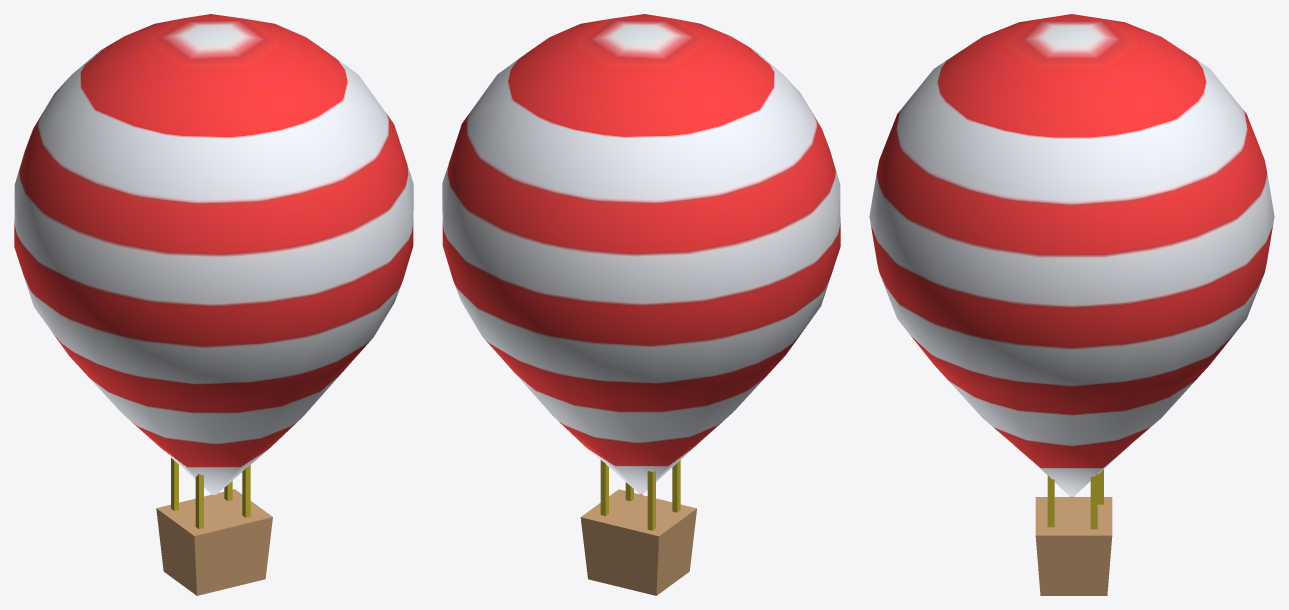
File: Balloon1.fbx
The picture shows the model from 3 angles, left to right: view 1: azimuth 30°, elevation 25°; view 2: azimuth 150°, elevation 25°; view 3: azimuth 270°, elevation 25°; orthographic projection.
Visible parts, largest first — view 1: GeoSphere001, Box010; view 2: GeoSphere001, Box010; view 3: GeoSphere001, Box010.
Part boxes in pixels (bbox=[...]): GeoSphere001: bbox=[14, 14, 413, 496]; Box010: bbox=[156, 458, 272, 595]; GeoSphere001: bbox=[442, 14, 840, 495]; Box010: bbox=[580, 460, 696, 595]; GeoSphere001: bbox=[869, 14, 1274, 497]; Box010: bbox=[1035, 469, 1112, 595].
Bounding box in the file's own units: 61.94 × 92 × 61.94.
3 materials, 3 textured.
